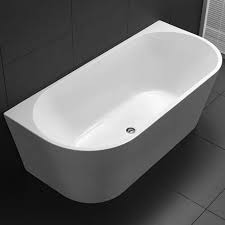bathub: (3, 17, 225, 205)
